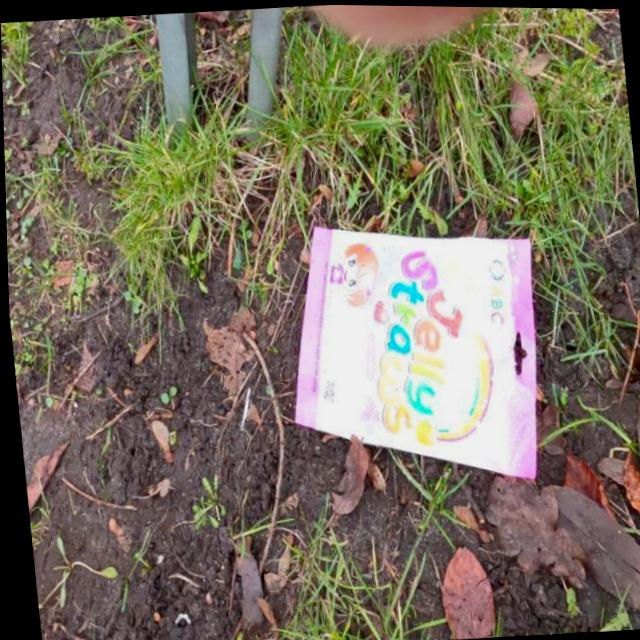Plastic: (271, 205, 552, 493)
